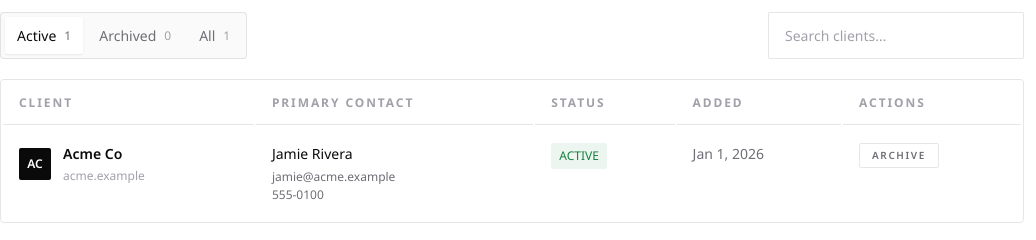
Test: ClientsTable › shows a no-results state when the search matches nothing
The width and height of the screenshot is (1036, 240).
In the search field labelled "Search clients": (896, 36) [768,12,1024,59], type "nonexistent"
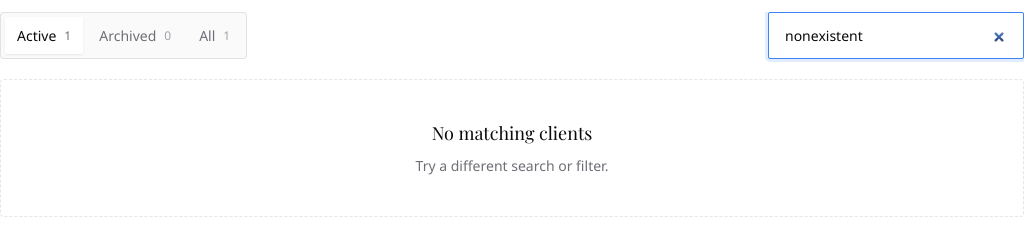
Expected: the text "No matching clients" is shown, [432,121,592,145]
